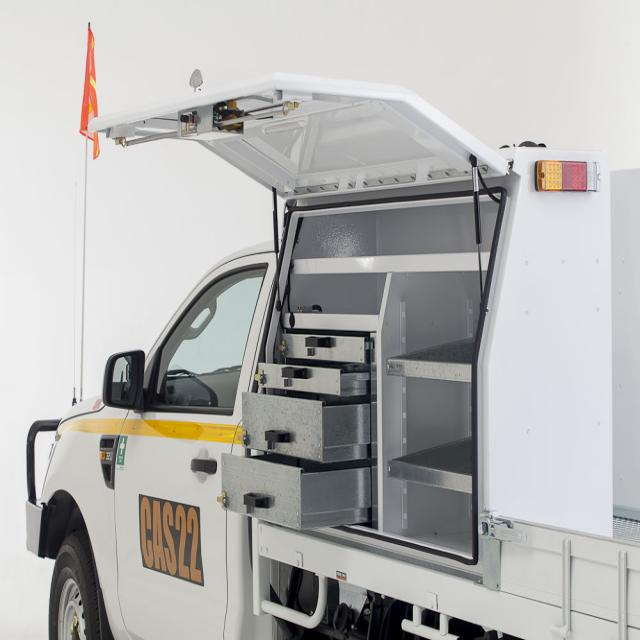light_vehicle: (10, 57, 638, 639)
